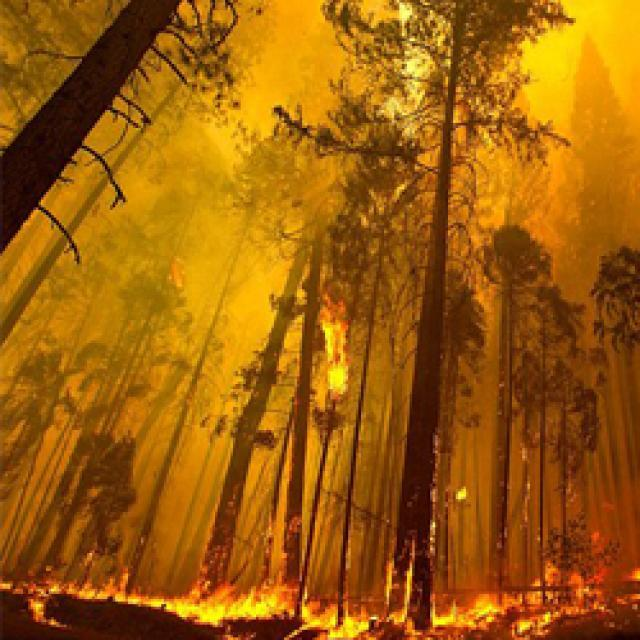Fire: (499, 559, 640, 639), (130, 574, 300, 640), (392, 586, 497, 640), (287, 587, 392, 640), (0, 575, 63, 630), (66, 552, 129, 602), (322, 286, 351, 394), (212, 486, 242, 580), (264, 518, 302, 574), (384, 544, 414, 586), (520, 444, 532, 526), (426, 492, 438, 554)
Smoke: (97, 114, 323, 572), (0, 142, 96, 559), (522, 0, 639, 288), (229, 0, 401, 115), (582, 289, 640, 565), (449, 279, 494, 577), (461, 138, 524, 239), (149, 34, 230, 112)
